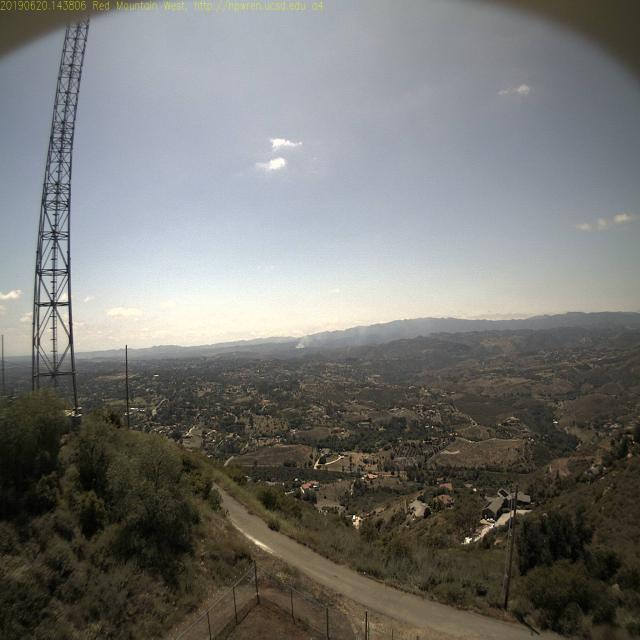smoke: (290, 327, 310, 355)
